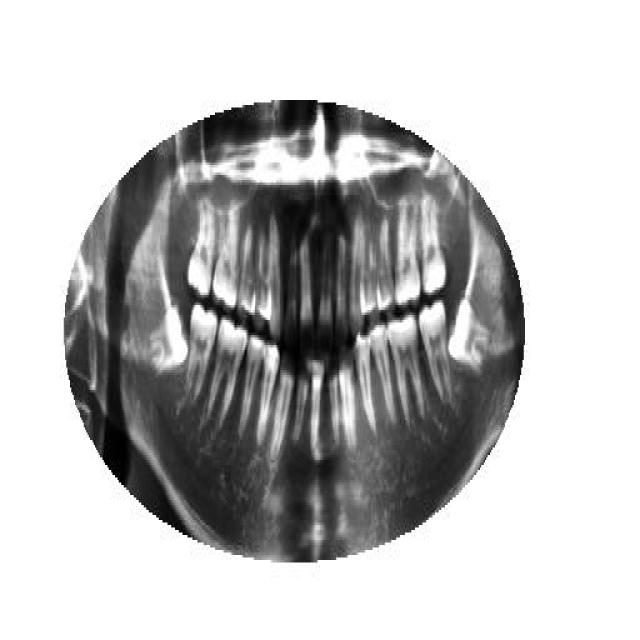Impacted Tooth: (145, 305, 189, 383), (449, 300, 490, 375)
